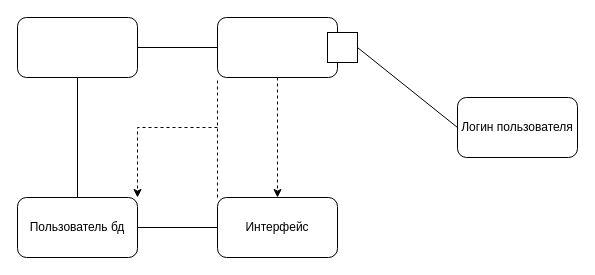
The diagram is 595 pixels wide and 275 high, and some of its shapes have lost their labels. Here are the shapes that lost their labels. From the top down, the centre of each, then its label:
At (x=77, y=47): "Бд аккаунтов".
At (x=277, y=47): "Проверка".
